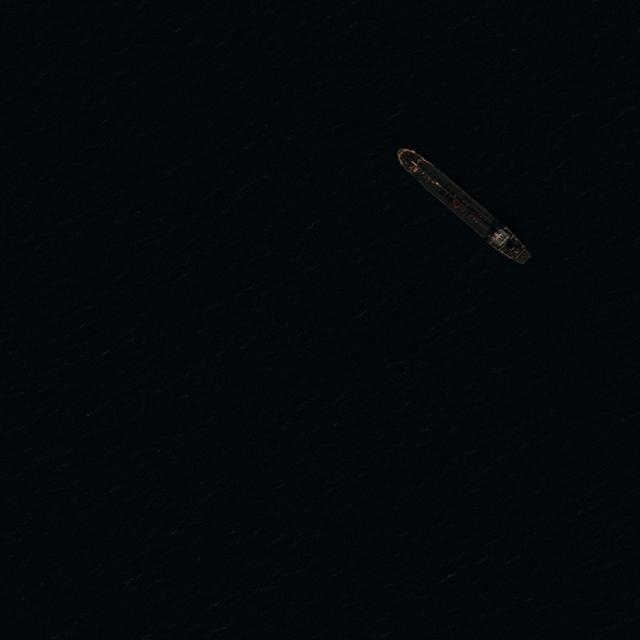Oil Tanker: (391, 142, 535, 269)
